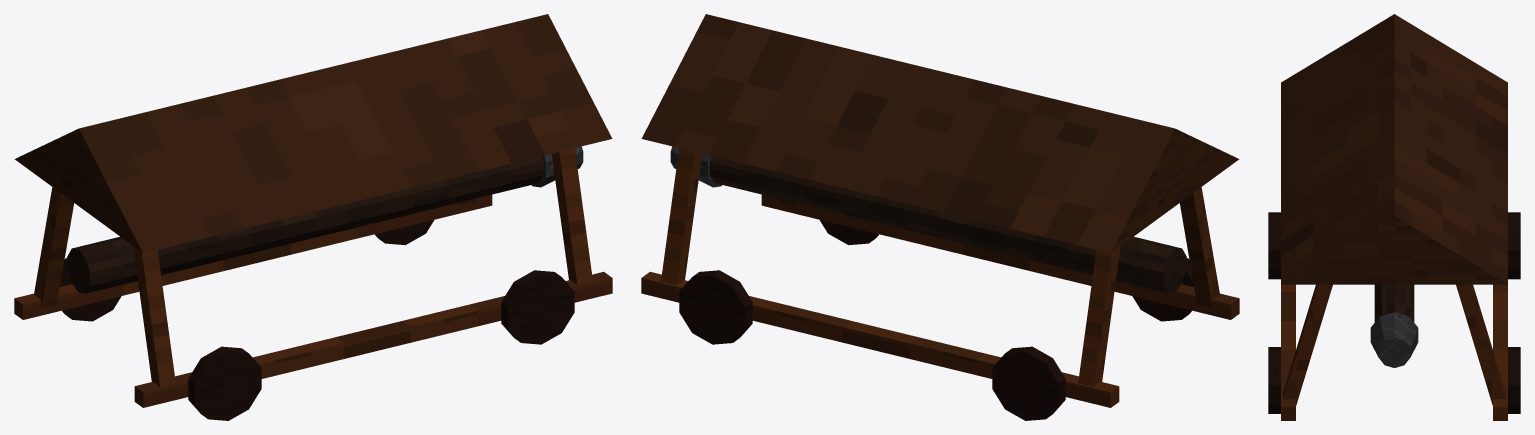
File: ariete.glb
3 renders of one model, left to right at view 1: azimuth 30°, elevation 25°; view 2: azimuth 150°, elevation 25°; view 3: azimuth 270°, elevation 25°, orthographic. The views are drawn at different scales.
Visible parts, largest first — view 1: techo, bastidor, ariete, ruedas_der, ruedas_izq; view 2: techo, bastidor, ariete, ruedas_izq, ruedas_der; view 3: techo, bastidor, cabeza, ruedas_izq, ruedas_der, ariete.
Boxes of the visible parts, left/top/right/bottom form: techo: left=14, top=14, right=612, bottom=253; bastidor: left=14, top=148, right=612, bottom=407; ariete: left=67, top=156, right=543, bottom=293; ruedas_der: left=188, top=270, right=574, bottom=420; ruedas_izq: left=60, top=219, right=434, bottom=321; techo: left=641, top=14, right=1239, bottom=253; bastidor: left=641, top=148, right=1239, bottom=407; ariete: left=710, top=156, right=1186, bottom=293; ruedas_izq: left=679, top=270, right=1065, bottom=420; ruedas_der: left=819, top=219, right=1193, bottom=321; techo: left=1281, top=14, right=1507, bottom=284; bastidor: left=1281, top=284, right=1507, bottom=420; cabeza: left=1370, top=312, right=1418, bottom=367; ruedas_izq: left=1508, top=212, right=1520, bottom=413; ruedas_der: left=1268, top=212, right=1280, bottom=413; ariete: left=1374, top=284, right=1414, bottom=322.
Bounding box in the file's own units: 6 × 3 × 3.
1 material, 1 textured.
